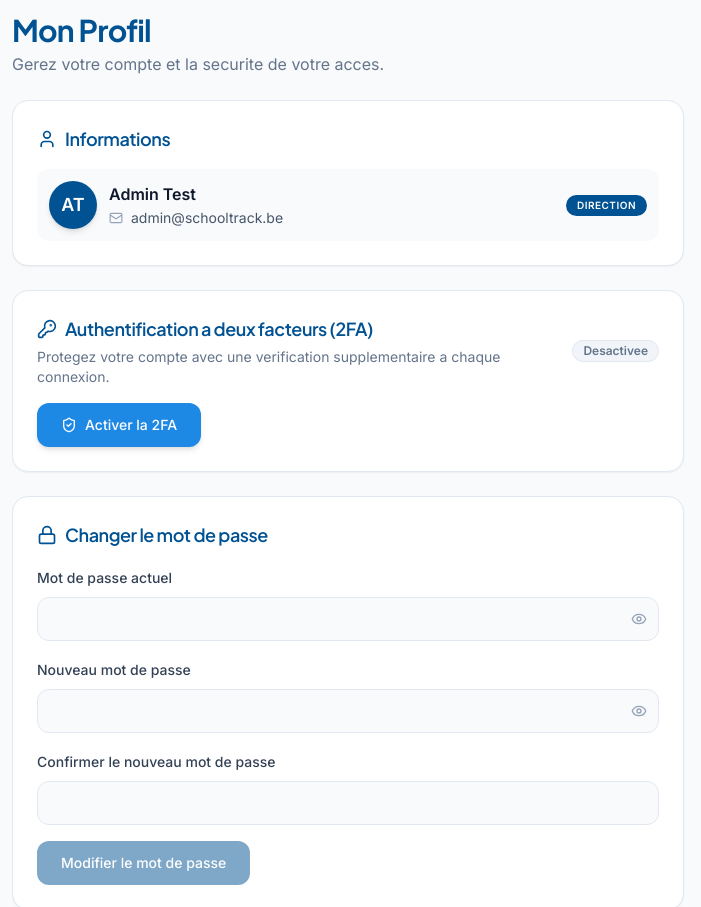
Test: ProfileScreen — Choix de methode 2FA › permet d'annuler et revenir a l'etat idle
What coordinates should you click on to do the following:
click the button "Activer la 2FA"
I would click on:
 (119, 425)
Its box is [37,403,201,447].
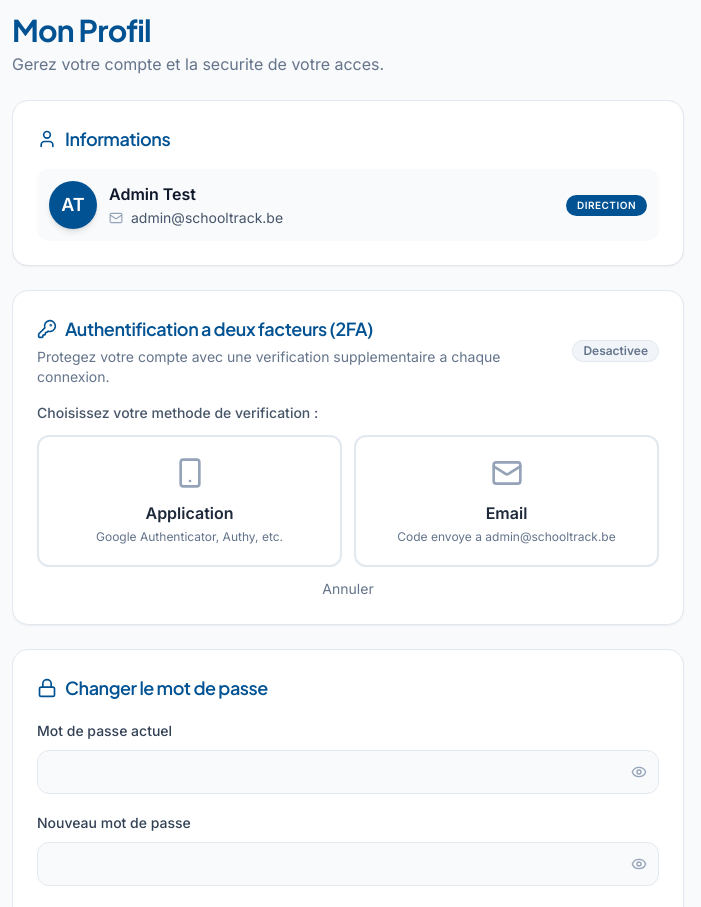
Check: the text "Application" is shown, box [146,503,234,523]
What coordinates should you click on to do the following:
click the button "Annuler"
I would click on:
 (348, 589)
Its box is [37,579,659,599].
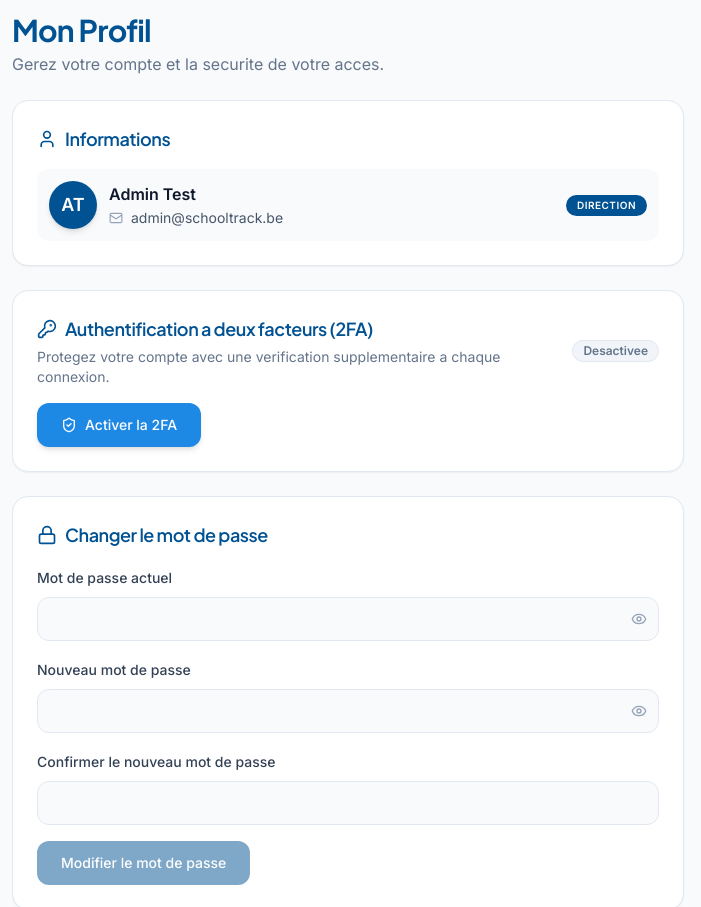
Check: the button "Activer la 2FA" is shown, box [37,403,201,447]
